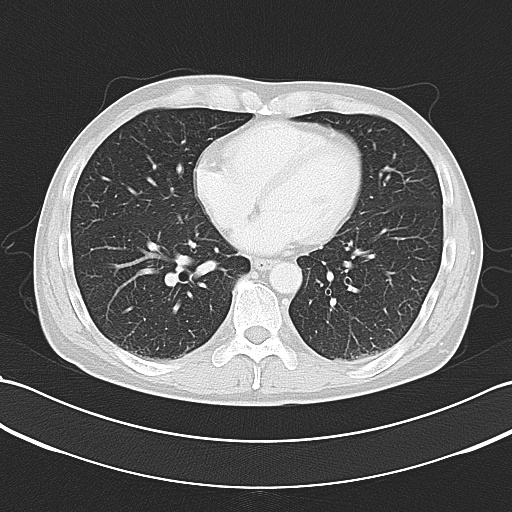Copy of non-cancer: (144, 225, 201, 259)
non-cancer: (152, 251, 209, 285)
